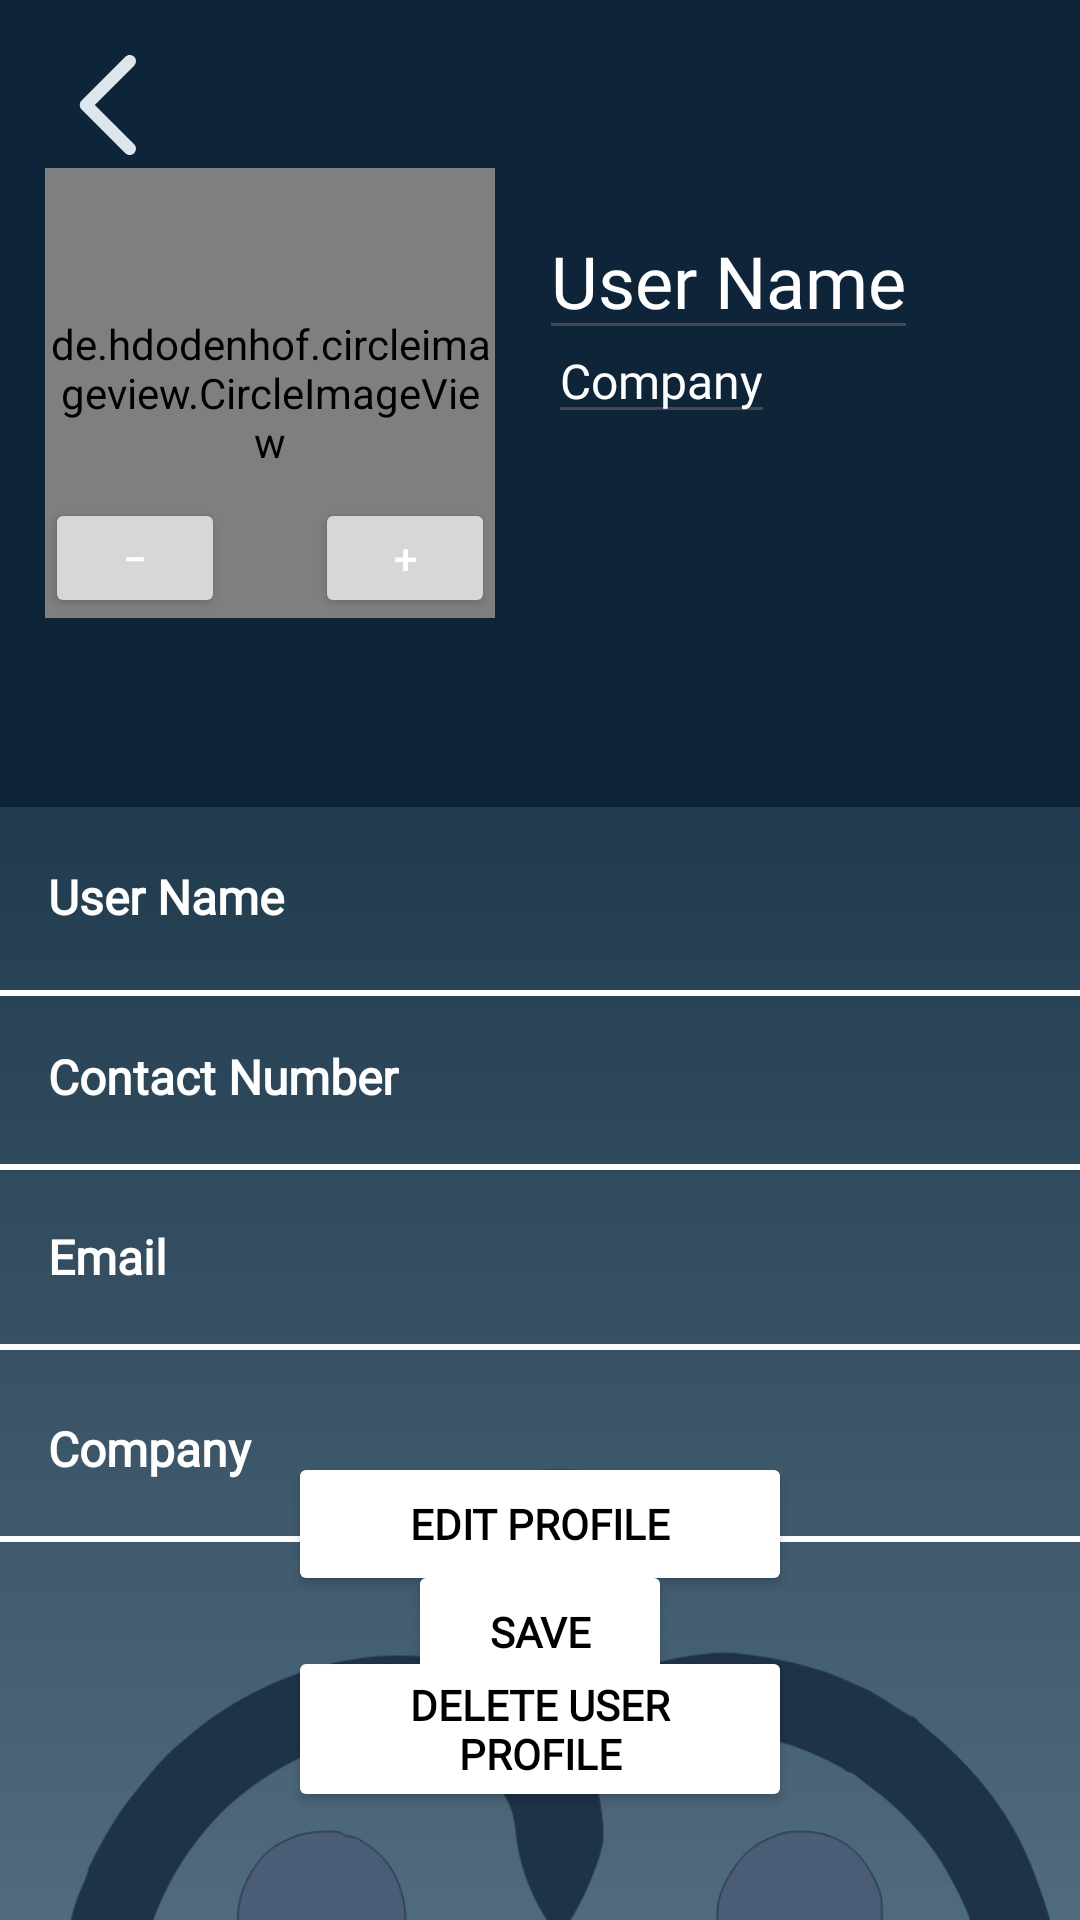

Point at icon controls on the screen. Image size 1080 × 1920, points as (x=x, y=y).
Back: (x=111, y=105)
